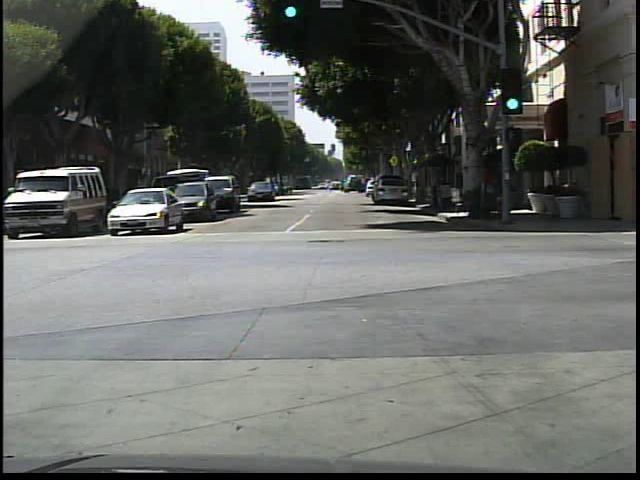person: (492, 161, 505, 220), (429, 169, 444, 212)
